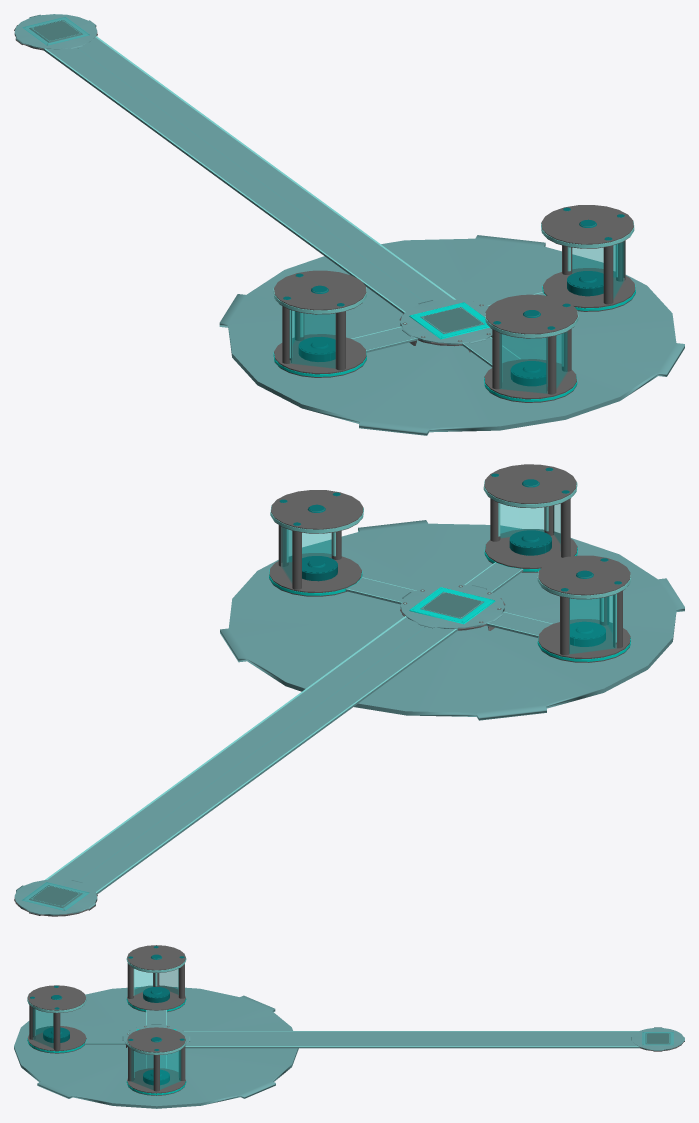
The model's file is MAINMENU (6).fbx.
3 renders of one model, top to bottom at view 1: azimuth 30°, elevation 25°; view 2: azimuth 150°, elevation 25°; view 3: azimuth 270°, elevation 25°, orthographic. The views are drawn at different scales.
Visible parts, largest first — view 1: pCylinder81, pCube10, pCylinder68, pCylinder43, pCylinder77, pCylinder60, pCylinder34, pCylinder11, pCylinder7, pCylinder25, pCylinder9, pCylinder1 (+9 smaller); view 2: pCylinder81, pCube10, pCylinder43, pCylinder60, pCylinder77, pCylinder34, pCylinder1, pCylinder7, pCylinder25, pCylinder9, pCylinder11, pCylinder68 (+9 smaller); view 3: pCylinder81, pCube10, pCylinder51, pCylinder60, pCylinder77, pCylinder43, pCylinder68, pCylinder11, pCylinder9, pCylinder7, pCylinder34, pCylinder25 (+5 smaller).
Boxes of the visible parts, x1,y1,x2,y2 form: pCylinder81: (219,235,684,435); pCube10: (43,36,455,313); pCylinder68: (499,331,567,394); pCylinder43: (274,270,366,314); pCylinder77: (485,294,577,338); pCylinder60: (541,205,633,248); pCylinder34: (282,306,335,368); pCylinder11: (484,359,576,402); pCylinder7: (543,268,635,311); pCylinder25: (14,14,97,49); pCylinder9: (274,334,366,377); pCylinder1: (400,299,492,344); pCylinder81: (220,520,684,720); pCube10: (45,616,457,894); pCylinder43: (538,555,630,599); pCylinder60: (271,490,363,533); pCylinder77: (484,464,576,508); pCylinder34: (569,591,622,653); pCylinder1: (400,584,504,628); pCylinder7: (269,553,361,596); pCylinder25: (14,879,97,915); pCylinder9: (538,619,630,662); pCylinder11: (485,529,577,572); pCylinder68: (500,504,560,543); pCylinder81: (14,986,298,1108); pCube10: (184,1031,639,1048); pCylinder51: (131,1049,180,1091); pCylinder60: (127,1027,185,1055); pCylinder77: (27,985,86,1013); pCylinder43: (127,945,185,972); pCylinder68: (29,1005,53,1048); pCylinder11: (27,1026,86,1053); pCylinder9: (127,985,185,1012); pCylinder7: (127,1068,185,1095); pCylinder34: (134,969,177,994); pCylinder25: (631,1027,684,1050).
Size of the model in its own units: 70.35 by 16.22 by 166.
